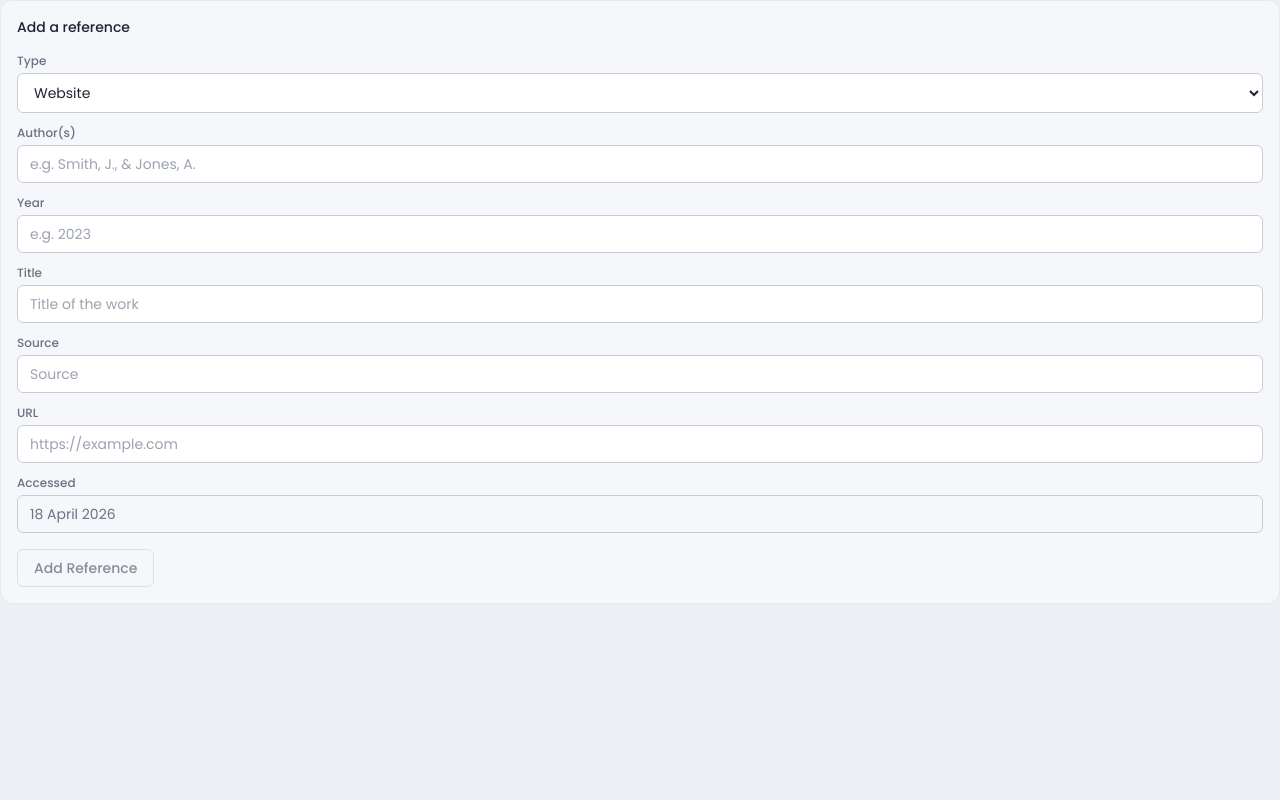
Test: ReferenceBuilder › switches to Journal: shows Volume, Issue, and Pages fields
Select "Journal article" in the dropdown labelled "Type" at [640, 93], box [17, 73, 1263, 113]
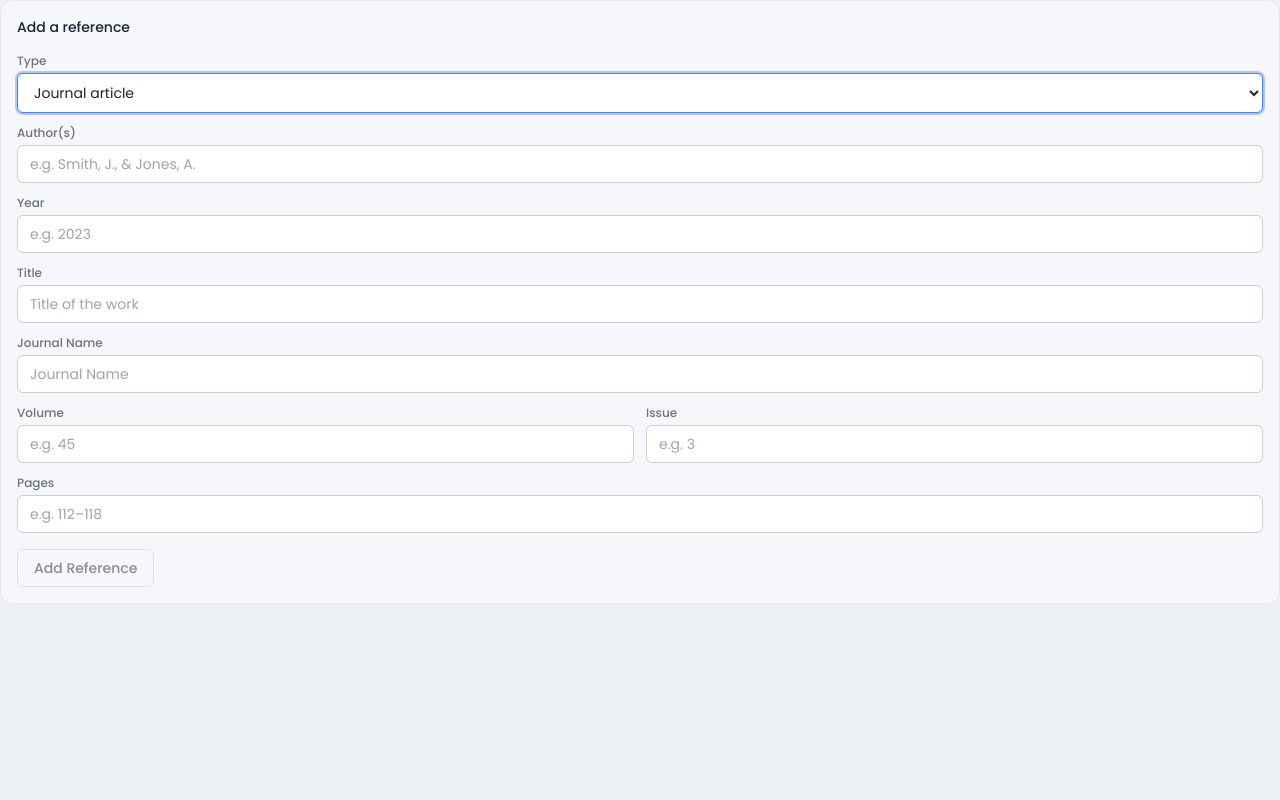
Now the field labelled "Volume" is shown, box [17, 425, 634, 463]
Now the field labelled "Issue" is shown, box [646, 425, 1263, 463]
Now the field labelled "Pages" is shown, box [17, 495, 1263, 533]
